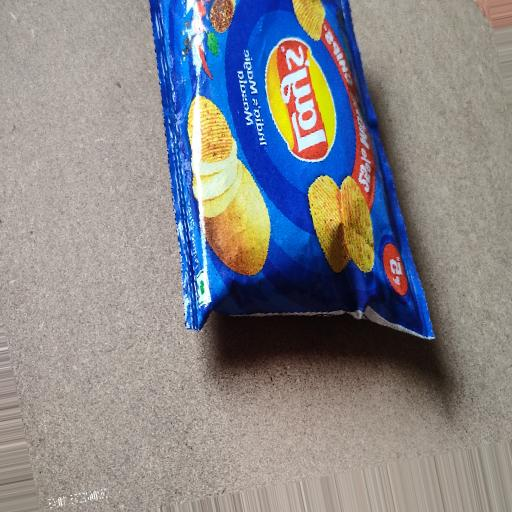Lays Blue (India Masala magic): (101, 1, 457, 374)
